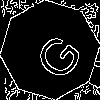G: (25, 25, 86, 84)
